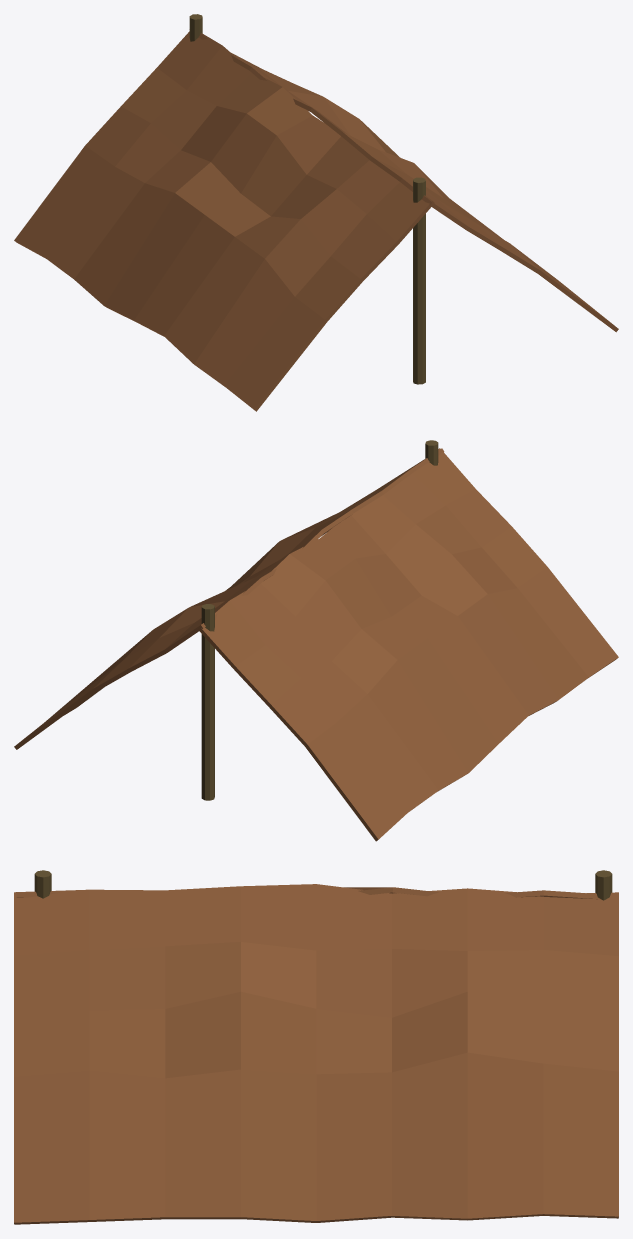
The model's file is tente3.fbx.
3 views of the same model, one above another, from view 1: azimuth 30°, elevation 25°; view 2: azimuth 150°, elevation 25°; view 3: azimuth 270°, elevation 25° (orthographic). The views are drawn at different scales.
Visible parts, largest first — view 1: Plan.004; view 2: Plan.004; view 3: Plan.004.
Part boxes in pixels (x1=…): Plan.004: x1=14, y1=14, x2=618, y2=411; Plan.004: x1=14, y1=440, x2=618, y2=841; Plan.004: x1=14, y1=870, x2=618, y2=1224.
Bounding box in the file's own units: 391 × 207 × 448.
